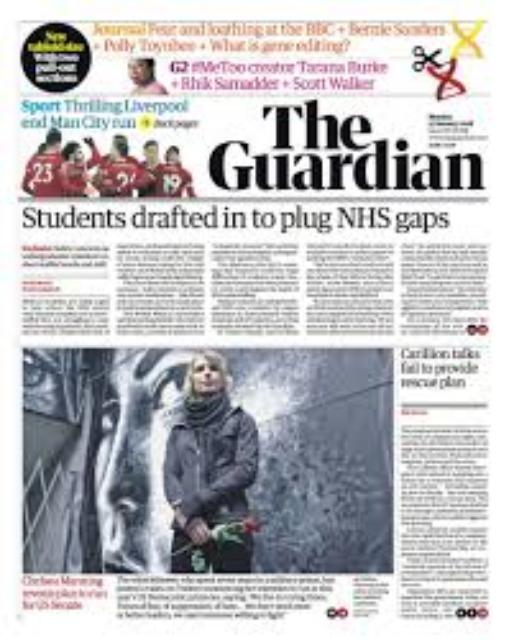cardboard paper: (17, 18, 492, 627)
